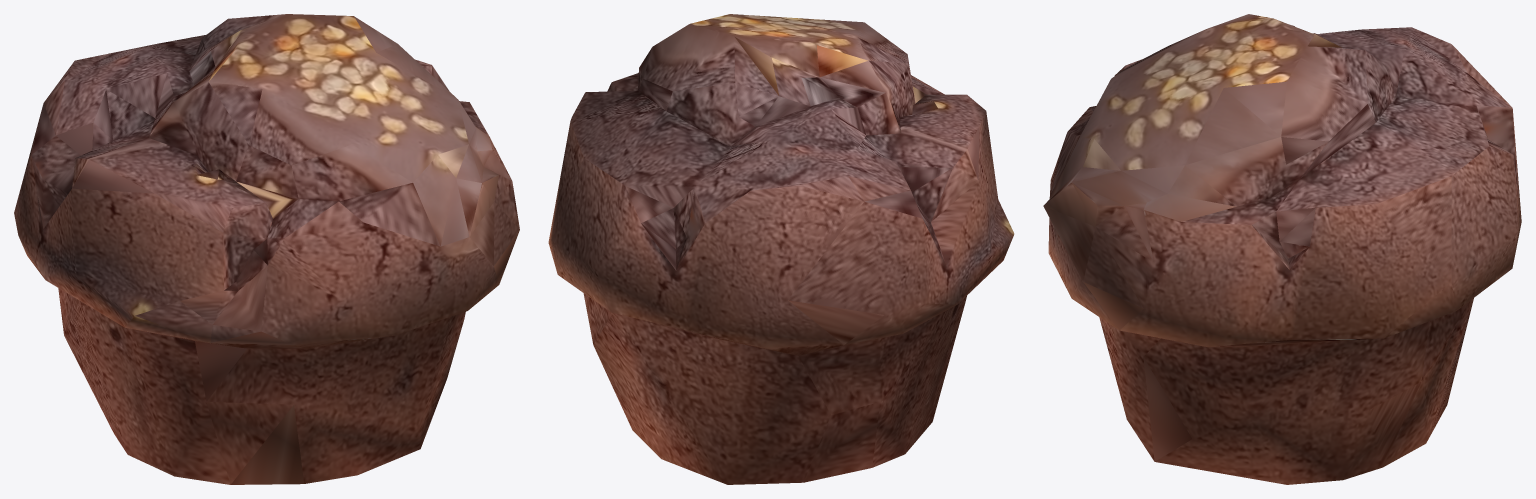
The model's file is muffin_342.obj.
3 views of the same model, side by side, from view 1: azimuth 30°, elevation 25°; view 2: azimuth 150°, elevation 25°; view 3: azimuth 270°, elevation 25° (orthographic). The views are drawn at different scales.
Size of the model in its own units: 14.15 by 12.94 by 14.38.
Materials: 1 (1 with a texture image).
